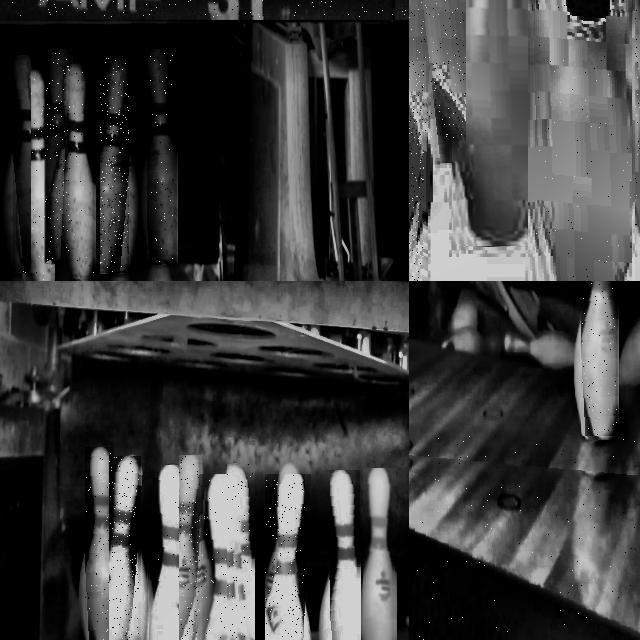bowling-pins: (537, 0, 631, 281), (453, 0, 527, 244), (149, 466, 191, 640), (204, 475, 247, 640), (62, 65, 94, 280), (418, 0, 466, 141), (265, 474, 305, 640), (22, 71, 53, 281), (100, 58, 129, 272), (148, 50, 175, 262), (582, 281, 617, 440), (86, 447, 114, 640), (110, 457, 139, 640), (364, 469, 394, 640), (48, 50, 70, 262), (331, 470, 358, 640), (227, 465, 253, 624), (13, 56, 31, 270), (180, 456, 200, 640)
sweep board: (409, 527, 640, 640)
